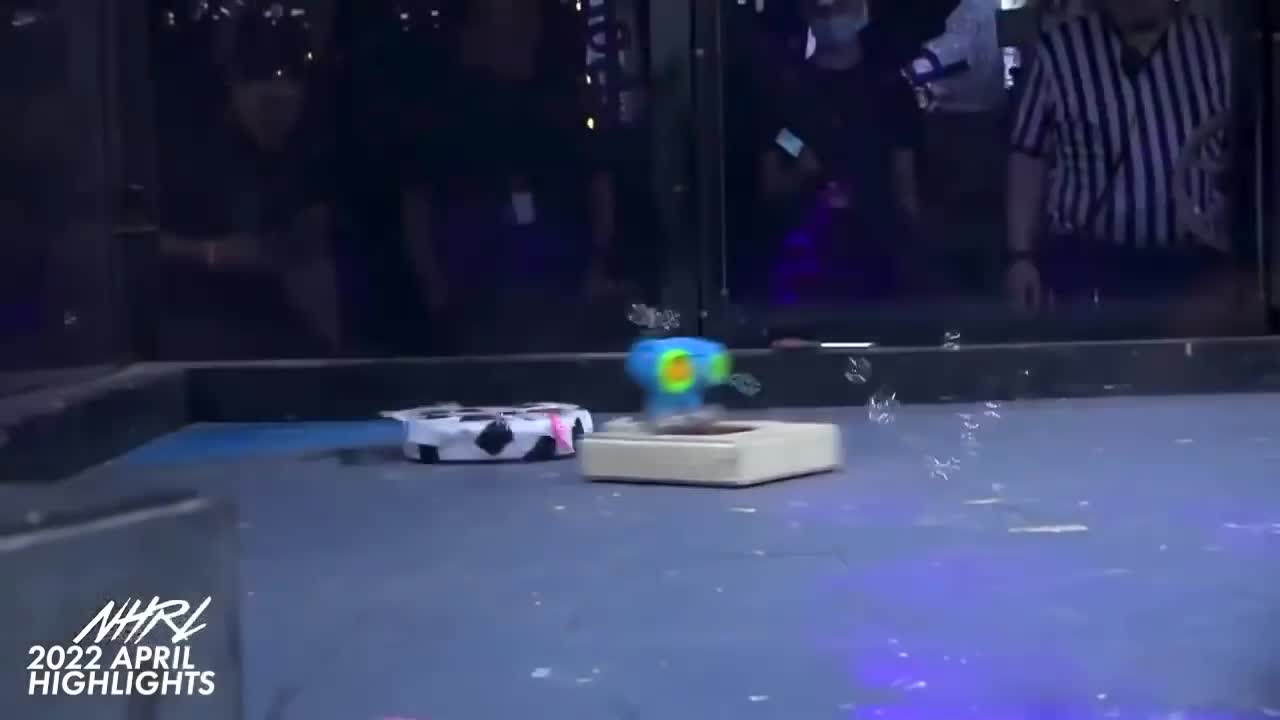combatbot: (577, 331, 847, 488), (376, 397, 592, 469)
